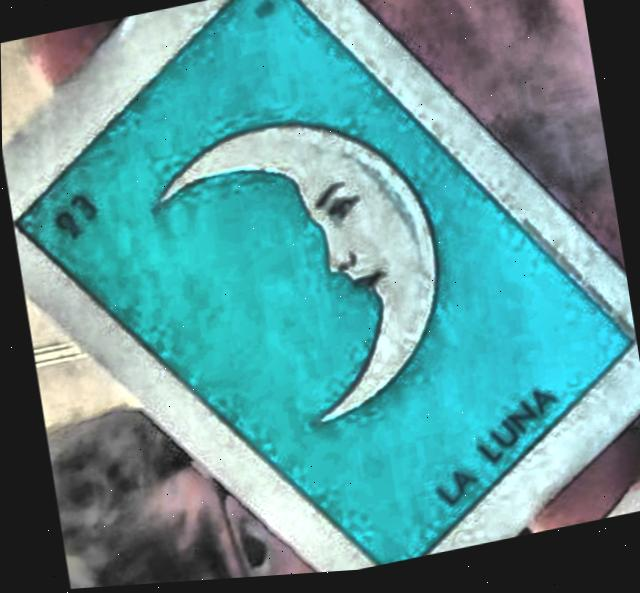La Luna: (15, 0, 632, 569)
